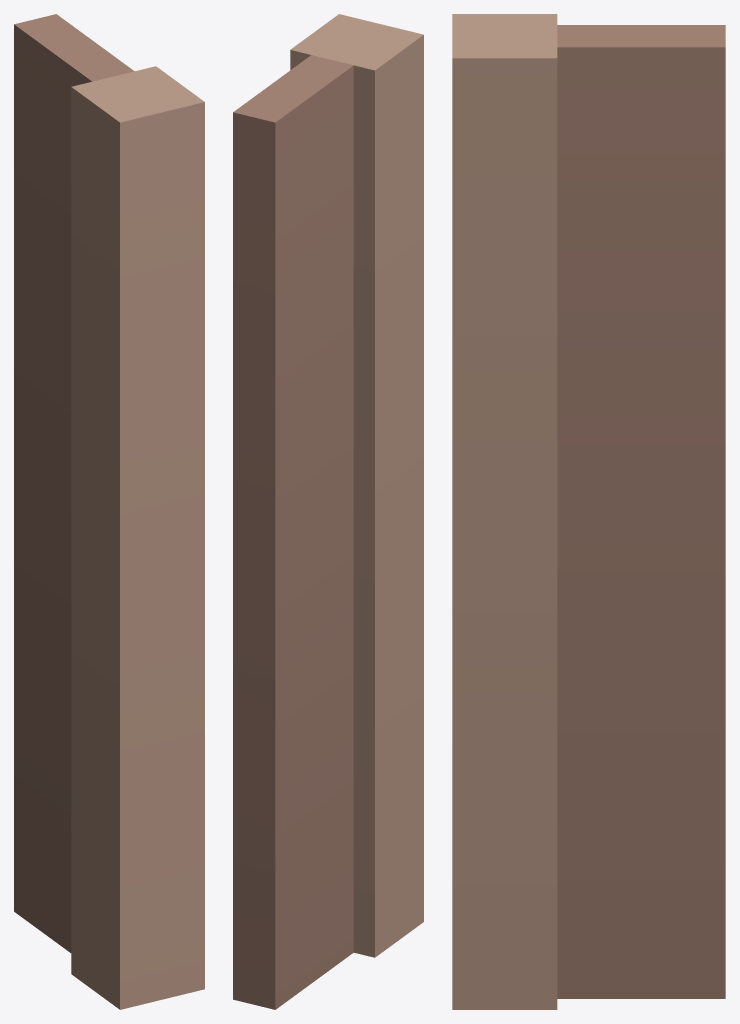
Rendered from wall-wood-side.glb.
3 views of the same model, side by side, from view 1: azimuth 30°, elevation 25°; view 2: azimuth 150°, elevation 25°; view 3: azimuth 270°, elevation 25° (orthographic). The views are drawn at different scales.
Visible parts, largest first — view 1: wall-wood-side; view 2: wall-wood-side; view 3: wall-wood-side.
Boxes of the visible parts, box(x1,y1,x2,y2) form: wall-wood-side: box(14, 14, 204, 1009); wall-wood-side: box(233, 14, 423, 1009); wall-wood-side: box(452, 14, 725, 1009).
Bounding box in the file's own units: 0.1 × 1 × 0.26.
